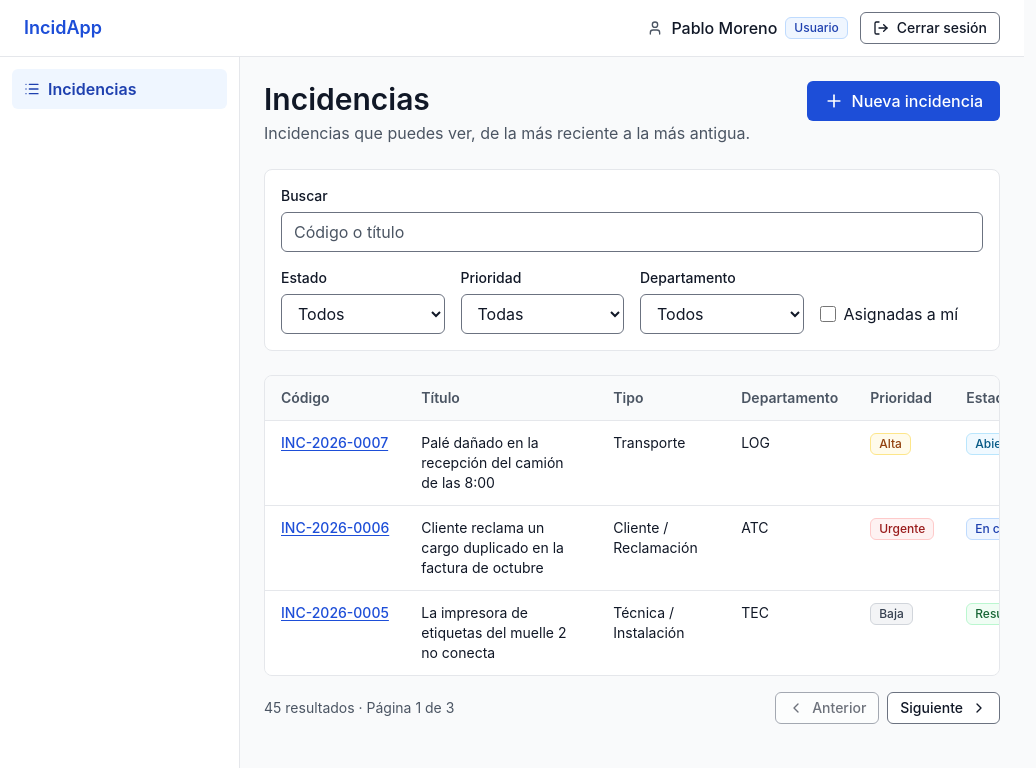
Scenario: CA-03.12 · listado de incidencias › "Siguiente" pide la página 2
Click the button "Siguiente" at (944, 708), box [887,692,1000,724]
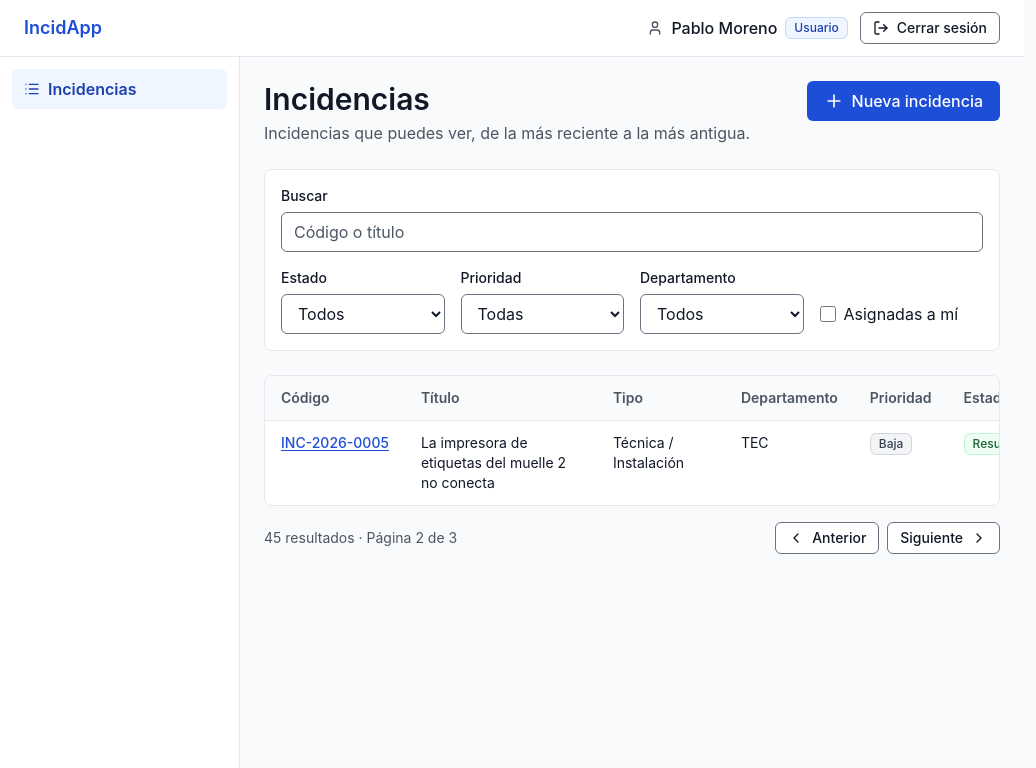
Result: the text "45 resultados · Página 2 de 3" is shown at [264,528,457,548]
Result: the number of rows is 2 at [265,376,1000,420]; [265,421,1000,505]
Result: the button "Anterior" is enabled at [775,522,879,554]
